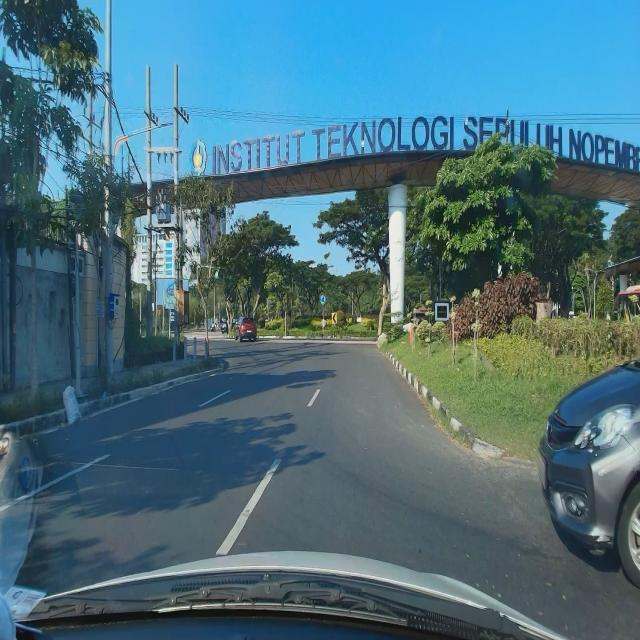car: (234, 315, 257, 343)
license-plate: (246, 329, 252, 334)
